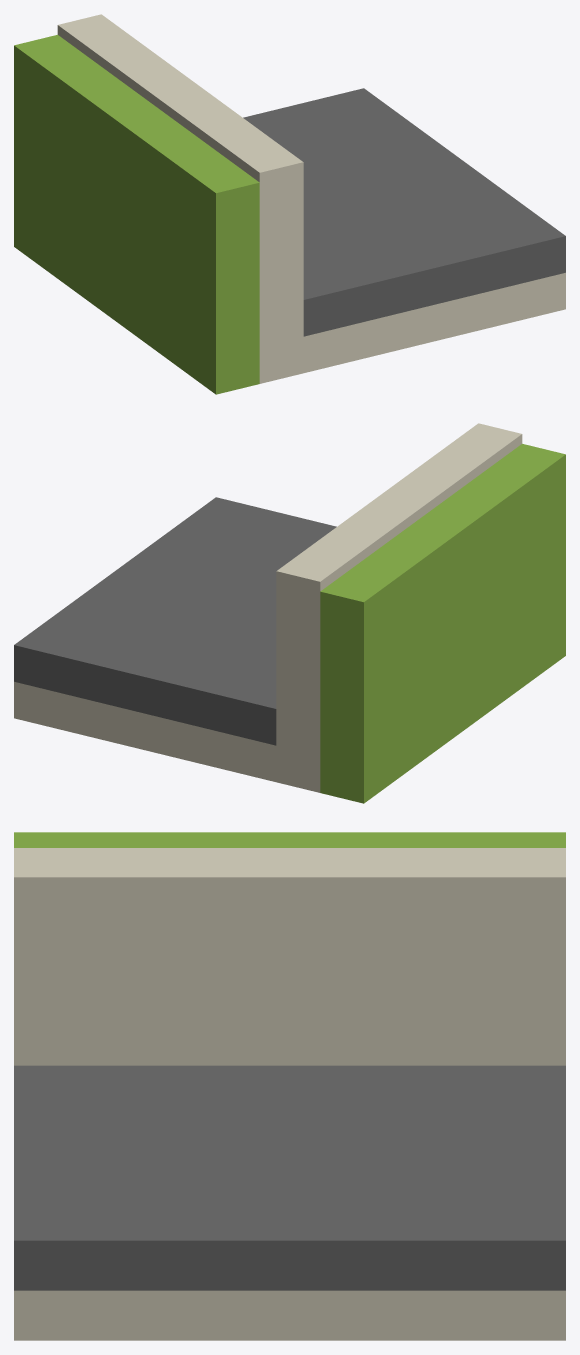
The model's file is road_curb.obj.
3 renders of one model, top to bottom at view 1: azimuth 30°, elevation 25°; view 2: azimuth 150°, elevation 25°; view 3: azimuth 270°, elevation 25°, orthographic. The views are drawn at different scales.
Visible parts, largest first — view 1: Mesh1_Group1_Model.049; view 2: Mesh1_Group1_Model.049; view 3: Mesh1_Group1_Model.049.
Part boxes in pixels (x1=…): Mesh1_Group1_Model.049: x1=14, y1=14, x2=565, y2=394; Mesh1_Group1_Model.049: x1=14, y1=423, x2=565, y2=803; Mesh1_Group1_Model.049: x1=14, y1=832, x2=565, y2=1340.
Size of the model in its own units: 3 by 1.73 by 3.
